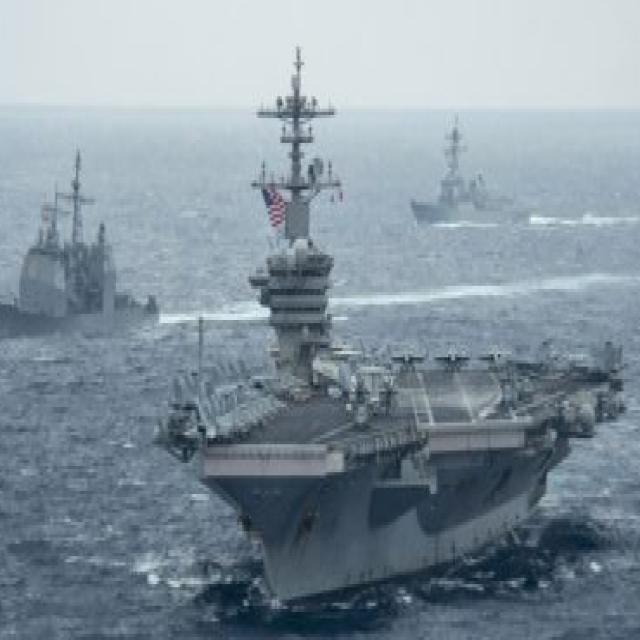navalvessels: (167, 144, 608, 589), (0, 168, 154, 329), (392, 109, 488, 221)
